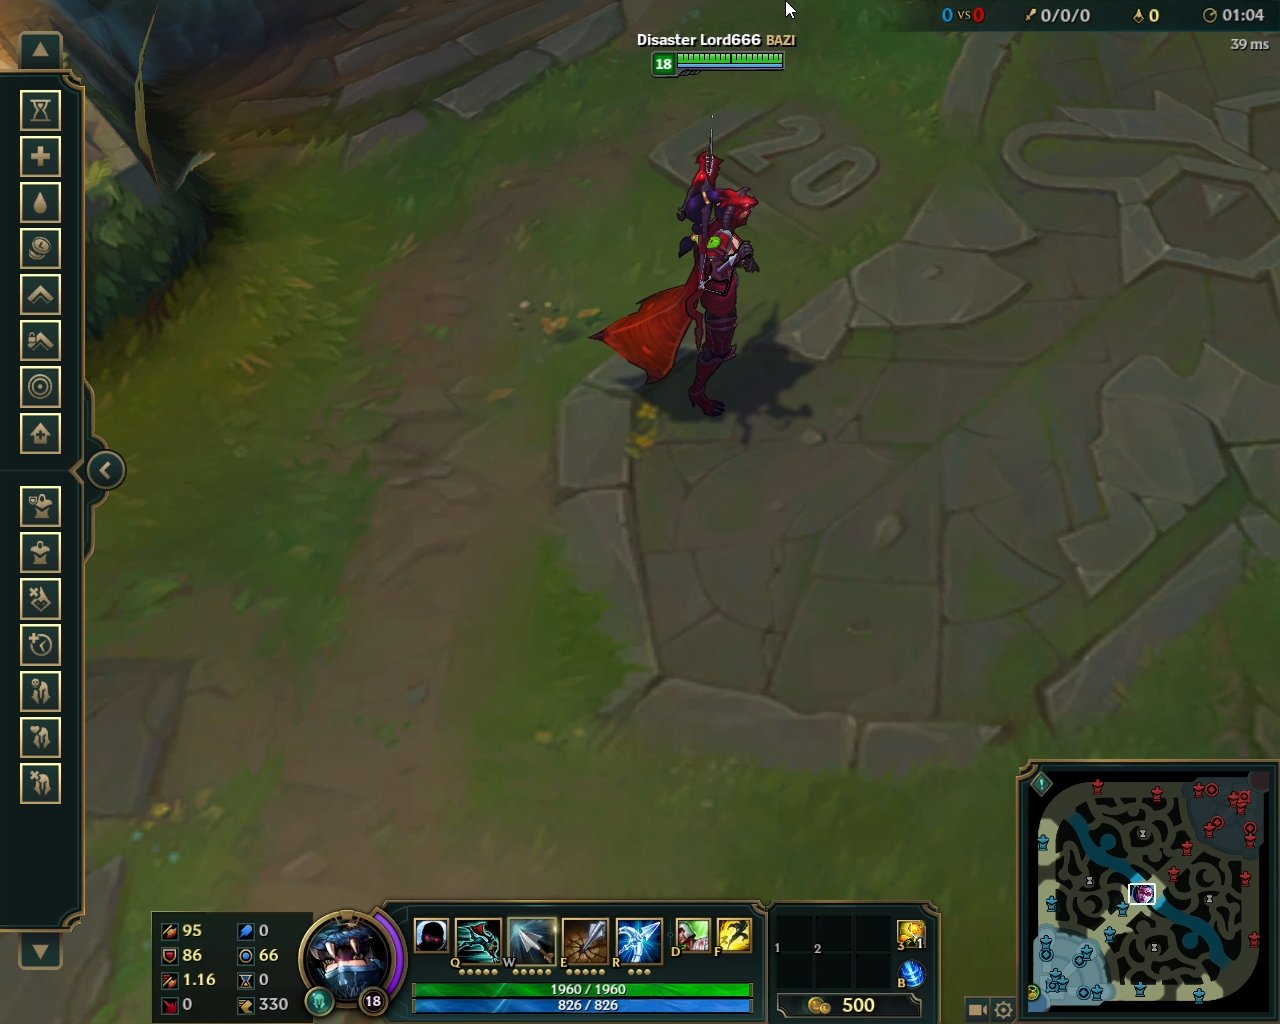Vayne: (572, 111, 769, 433)
